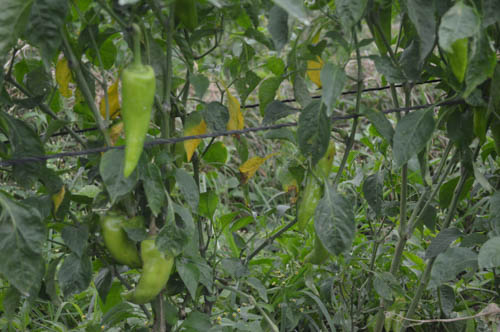ChiliPepper: (119, 70, 156, 181), (122, 235, 178, 305), (294, 145, 339, 229), (100, 216, 138, 264)
